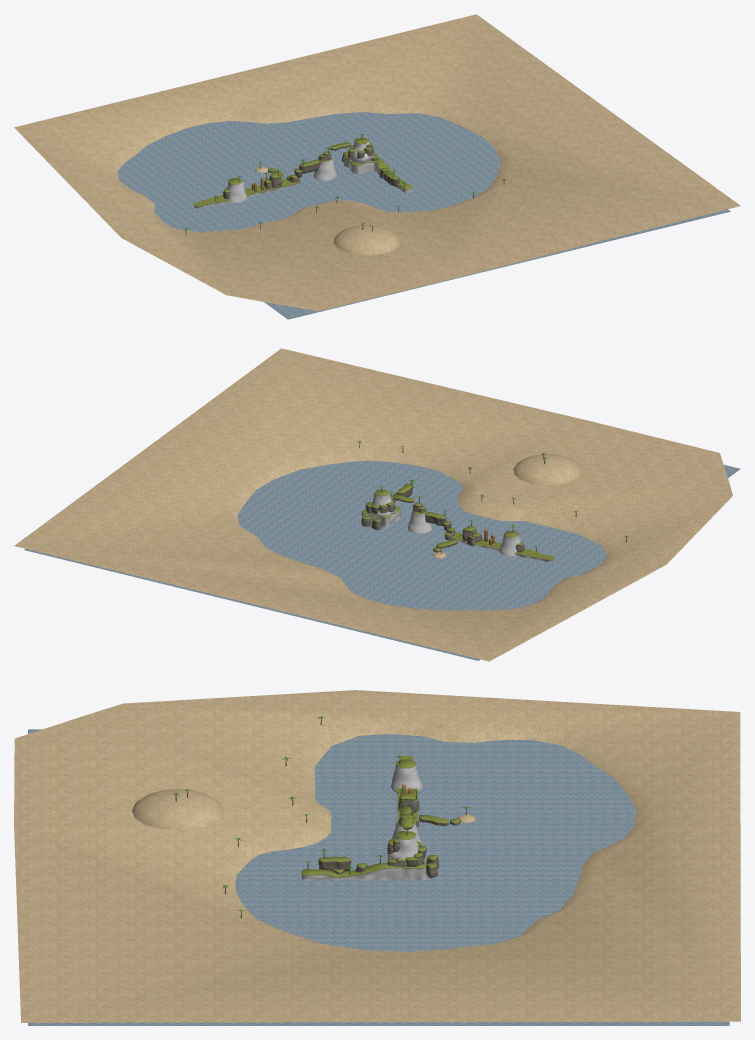
Rendered from wald_2.fbx.
3 renders of one model, top to bottom at view 1: azimuth 30°, elevation 25°; view 2: azimuth 150°, elevation 25°; view 3: azimuth 270°, elevation 25°, orthographic. The views are drawn at different scales.
Parts seen in each view (by area): view 1: Plane.002, Water, Sphere.001, Cube, Plane; view 2: Plane.002, Water, Sphere.001, Plane; view 3: Plane.002, Water, Sphere.001, Cube, Circle.002, Circle.
Boxes of the visible parts, x1=… form: Plane.002: x1=14, y1=14, x2=740, y2=311; Water: x1=117, y1=112, x2=730, y2=319; Sphere.001: x1=333, y1=225, x2=400, y2=255; Cube: x1=343, y1=155, x2=412, y2=192; Plane: x1=193, y1=179, x2=300, y2=208; Plane.002: x1=14, y1=348, x2=732, y2=661; Water: x1=24, y1=460, x2=740, y2=660; Sphere.001: x1=513, y1=454, x2=581, y2=484; Plane: x1=444, y1=531, x2=554, y2=562; Plane.002: x1=14, y1=690, x2=740, y2=1022; Water: x1=28, y1=729, x2=729, y2=1025; Sphere.001: x1=132, y1=788, x2=223, y2=830; Cube: x1=301, y1=852, x2=426, y2=880; Circle.002: x1=390, y1=759, x2=422, y2=791; Circle: x1=387, y1=831, x2=423, y2=860.
Bounding box in the file's own units: 80769 × 7452 × 74543.
